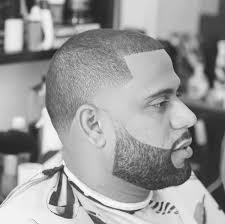black_male: (47, 20, 206, 207)
